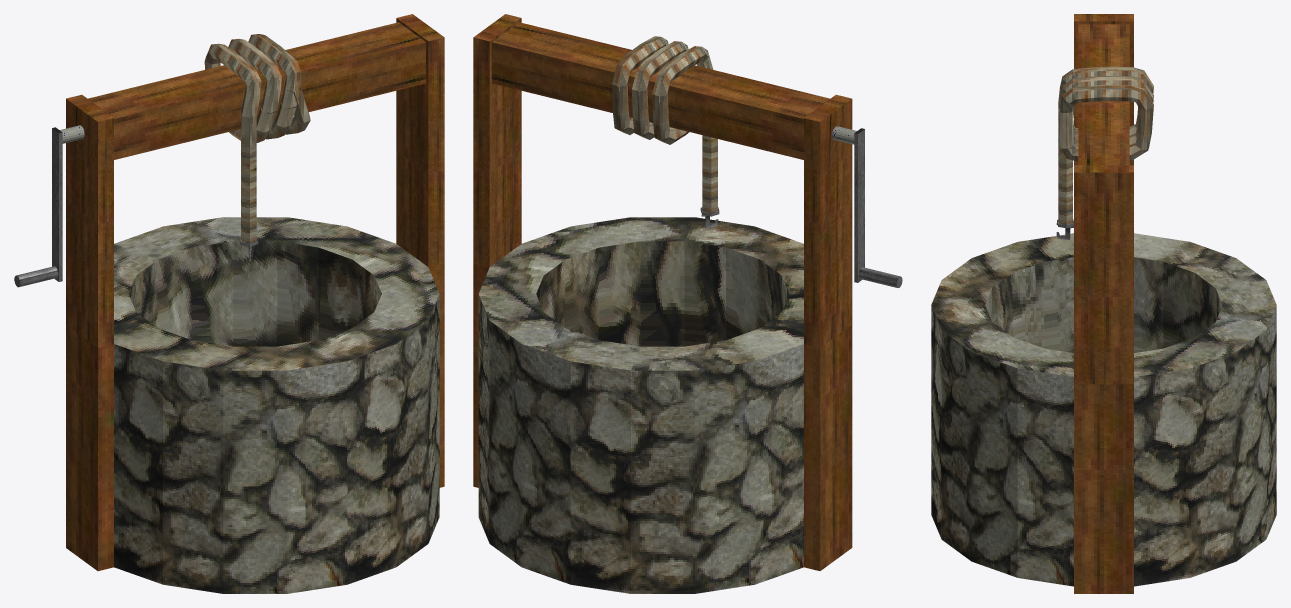
Rendered from well_470x00.gltf.
3 renders of one model, left to right at view 1: azimuth 30°, elevation 25°; view 2: azimuth 150°, elevation 25°; view 3: azimuth 270°, elevation 25°, orthographic. The views are drawn at different scales.
Visible parts, largest first — view 1: Well_470x0; view 2: Well_470x0; view 3: Well_470x0.
Part boxes in pixels (bbox=[...]): Well_470x0: bbox=[14, 14, 444, 593]; Well_470x0: bbox=[473, 14, 902, 593]; Well_470x0: bbox=[931, 14, 1276, 593].
Bounding box in the file's own units: 3.82 × 4.15 × 2.97.
